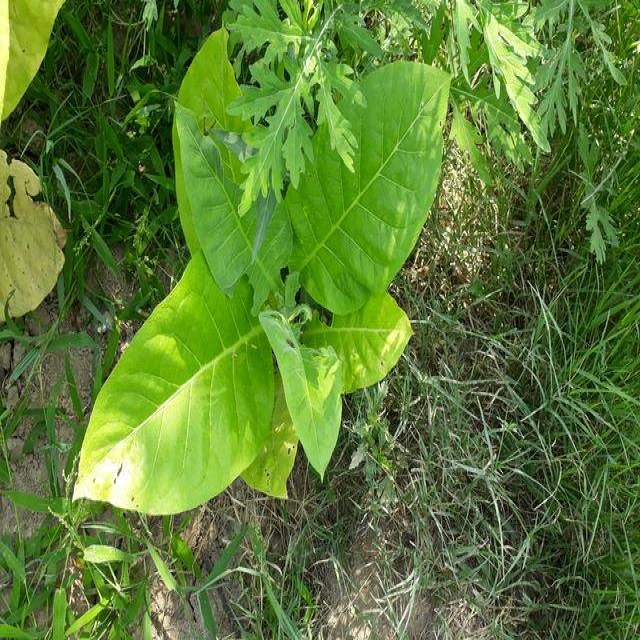crop: (66, 28, 449, 525)
